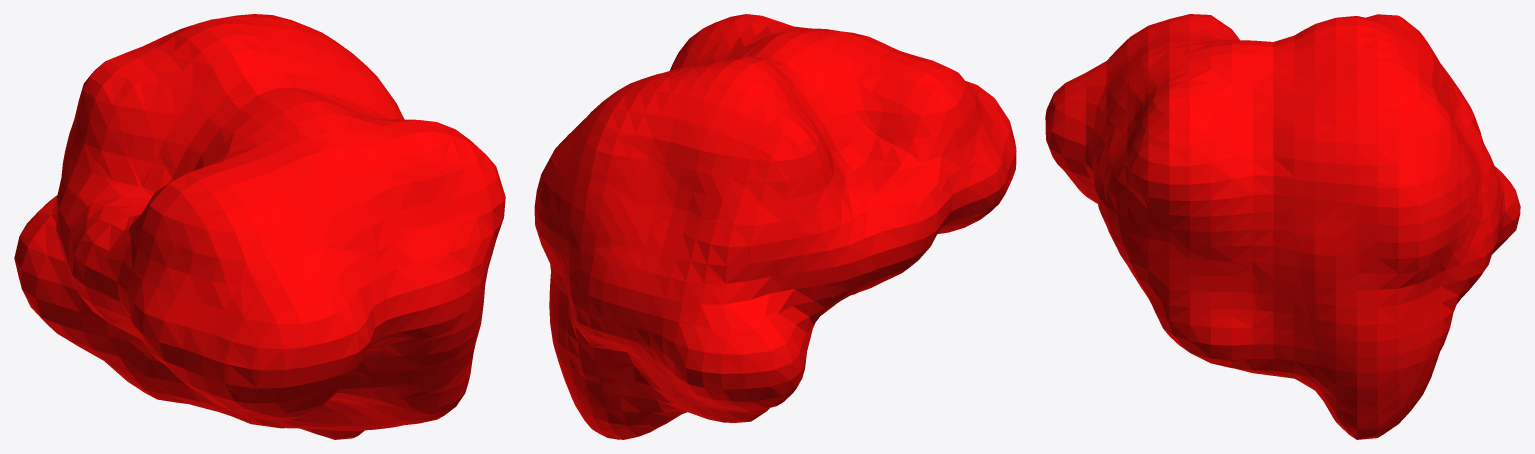
Rendered from fabZ_coarse.dae.
3 renders of one model, left to right at view 1: azimuth 30°, elevation 25°; view 2: azimuth 150°, elevation 25°; view 3: azimuth 270°, elevation 25°, orthographic. The views are drawn at different scales.
Visible parts, largest first — view 1: fabZ; view 2: fabZ; view 3: fabZ.
Part boxes in pixels (x1,y1,x2,y2): fabZ: (14, 14, 505, 439); fabZ: (534, 14, 1016, 439); fabZ: (1045, 14, 1520, 439).
Size of the model in its own units: 36.78 by 40.92 by 48.5.
